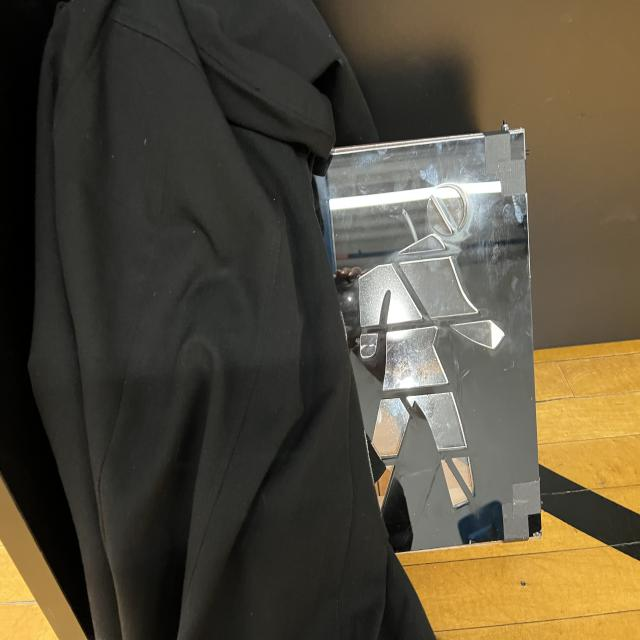go: (337, 144, 535, 528)
